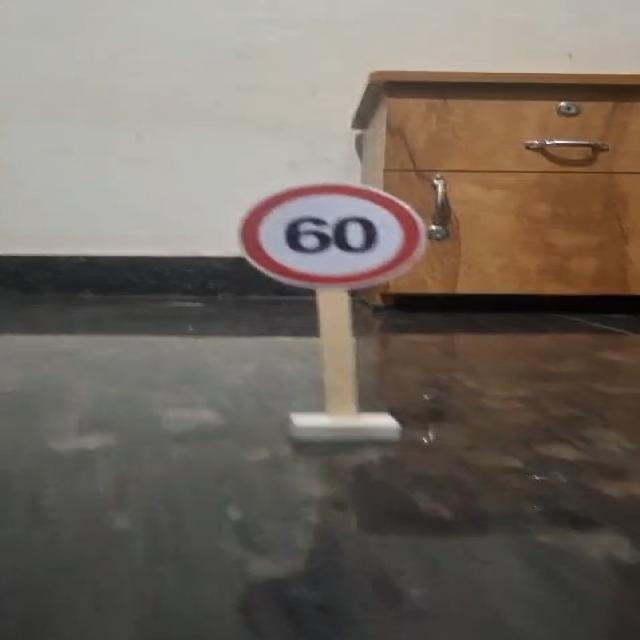Speed60: (232, 179, 431, 293)
